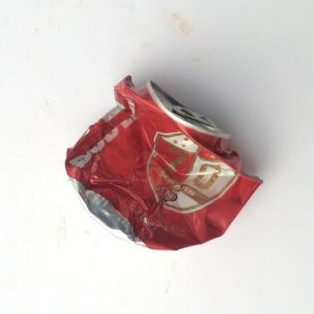Metal: (78, 75, 242, 254)
